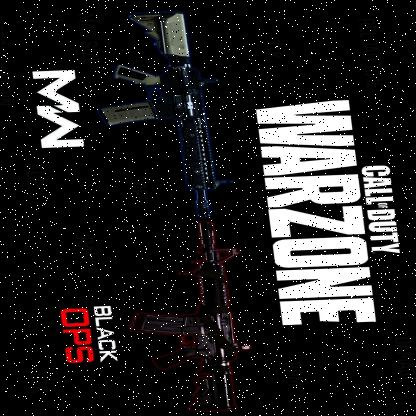rifle: (86, 8, 241, 220), (122, 220, 260, 414)
